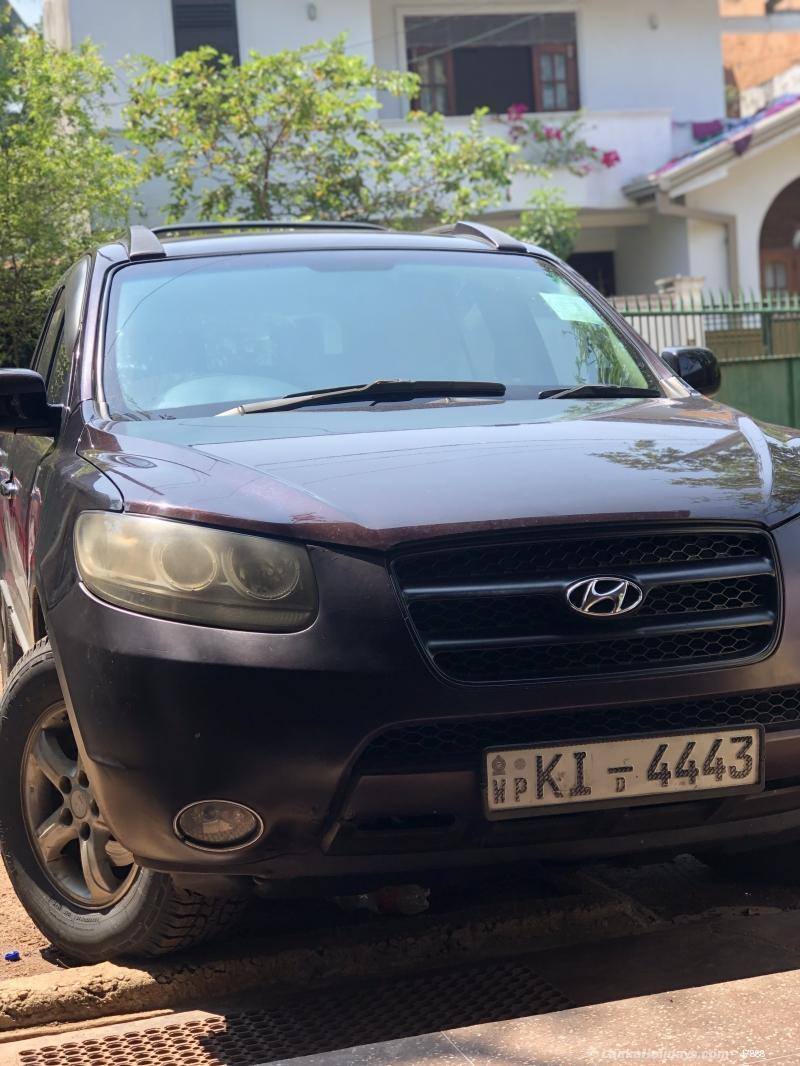license-plate: (487, 725, 759, 803)
